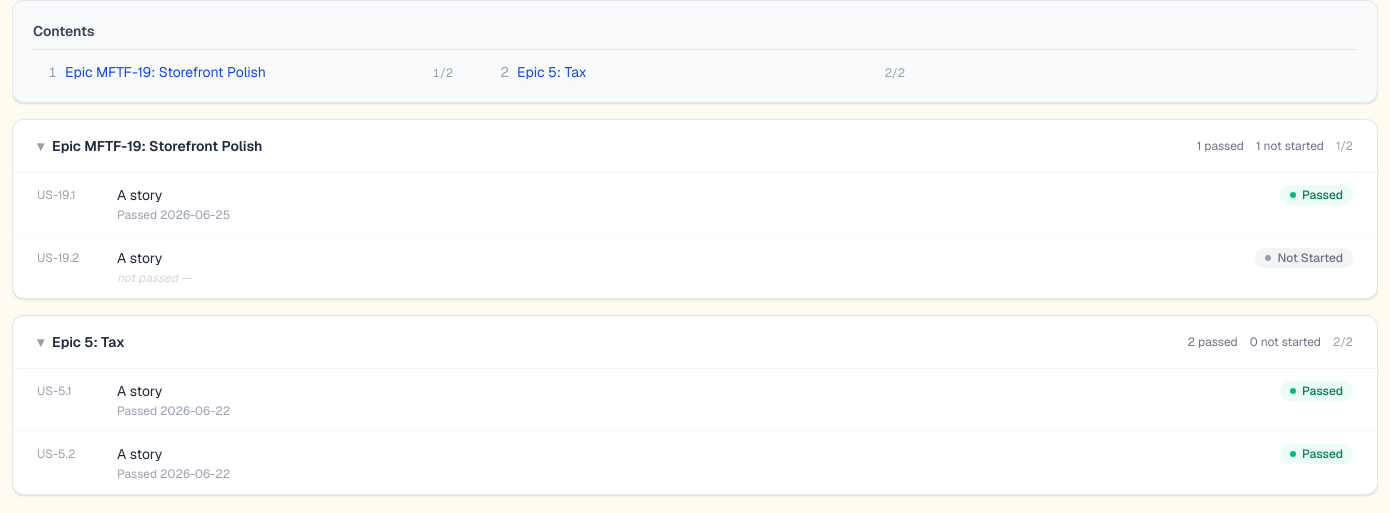
TrackerSections (US-MFTF-19.2) › collapses a section and exposes expanded/collapsed state
This screenshot has width=1390, height=513.
expect the text "US-19.1" is shown: met, box [37, 187, 76, 203]
Click the button "▾ Epic MFTF-19: Storefront Polish 1 passed 1 not started 1/2" at (157, 146), box [13, 120, 1377, 172]
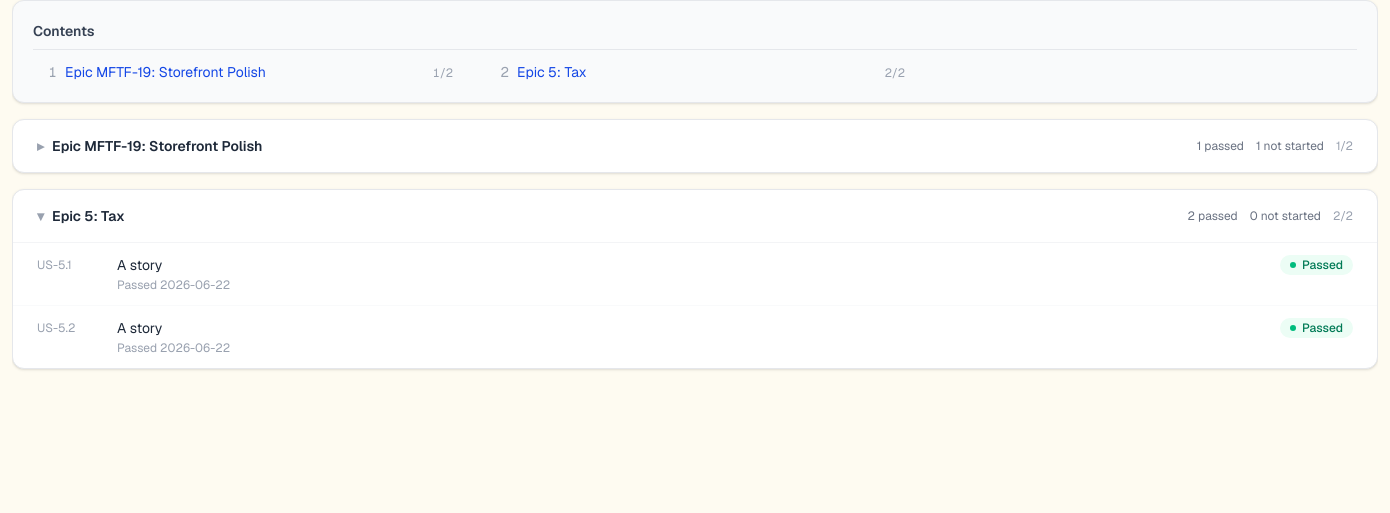
expect the button "▸ Epic MFTF-19: Storefront Polish 1 passed 1 not started 1/2" is collapsed: met, box [13, 120, 1377, 172]
expect the text "US-19.1" is gone: met
